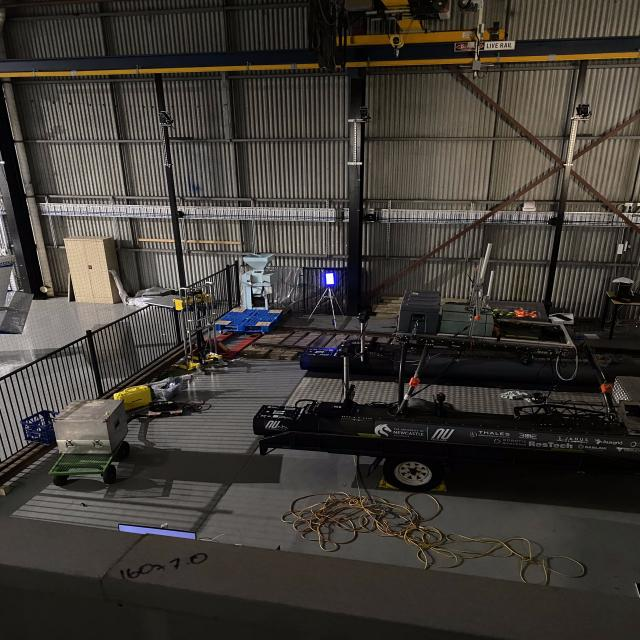matrix: (319, 267, 342, 289)
